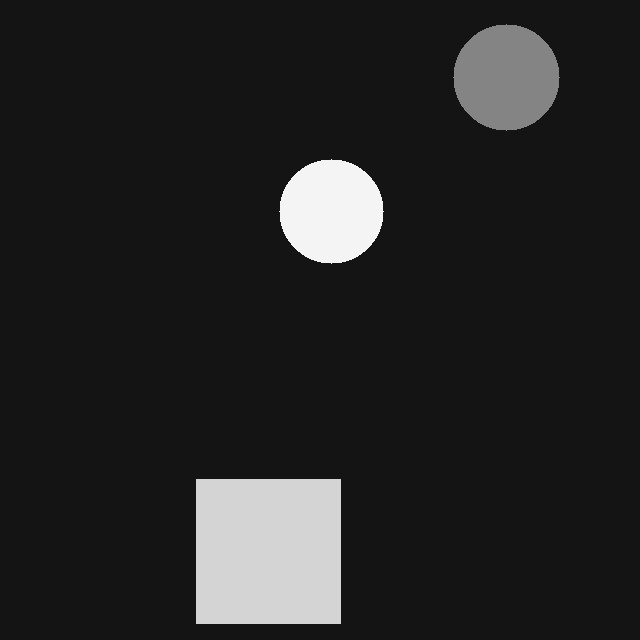circle: (453, 24, 559, 130), (279, 159, 383, 263)
square: (196, 479, 340, 623)
